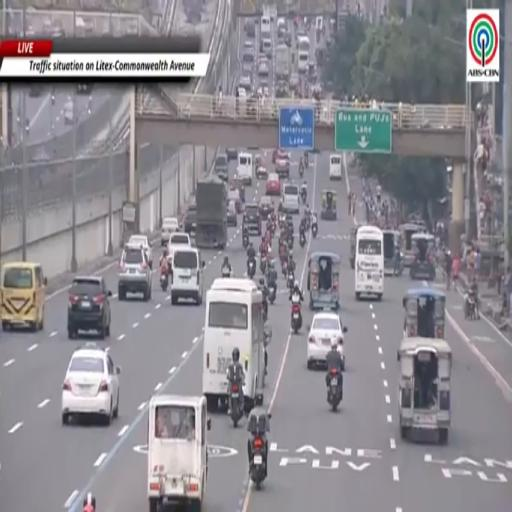bus: (203, 278, 264, 411), (355, 226, 384, 300), (297, 36, 310, 54)
car: (62, 343, 121, 425), (68, 276, 112, 339), (307, 312, 347, 370), (118, 244, 152, 300), (128, 235, 152, 268), (168, 233, 191, 262), (243, 203, 261, 235), (281, 183, 299, 213), (161, 217, 179, 246), (183, 204, 196, 234), (228, 188, 242, 214), (230, 178, 245, 202), (266, 173, 281, 196), (259, 196, 274, 218), (275, 158, 290, 179), (242, 50, 254, 72), (227, 201, 237, 227), (273, 149, 290, 164), (63, 101, 74, 124), (276, 80, 288, 98), (240, 73, 251, 91), (245, 19, 255, 37), (76, 83, 92, 94), (289, 73, 300, 89), (258, 60, 269, 75), (254, 153, 264, 169), (227, 148, 238, 161), (256, 166, 267, 179), (284, 32, 291, 47), (244, 40, 254, 50)
jeepney: (399, 338, 452, 443), (403, 287, 445, 339), (307, 252, 340, 310), (410, 233, 435, 280), (400, 222, 424, 267), (383, 230, 400, 276), (321, 189, 336, 219), (349, 227, 358, 269)
motorcycle: (251, 437, 266, 489), (230, 383, 244, 427), (328, 368, 342, 411), (291, 302, 302, 334), (465, 294, 477, 319), (160, 268, 168, 292), (268, 282, 276, 304), (394, 259, 403, 276), (287, 272, 294, 291), (248, 259, 255, 278), (262, 299, 267, 323), (260, 255, 266, 274), (300, 231, 306, 248), (222, 267, 231, 278), (243, 233, 249, 249), (306, 212, 311, 230), (282, 260, 287, 278), (301, 189, 306, 204), (288, 234, 293, 249), (312, 223, 317, 237), (299, 164, 304, 178), (305, 156, 309, 168)
truck: (196, 176, 227, 249), (276, 44, 290, 83)
